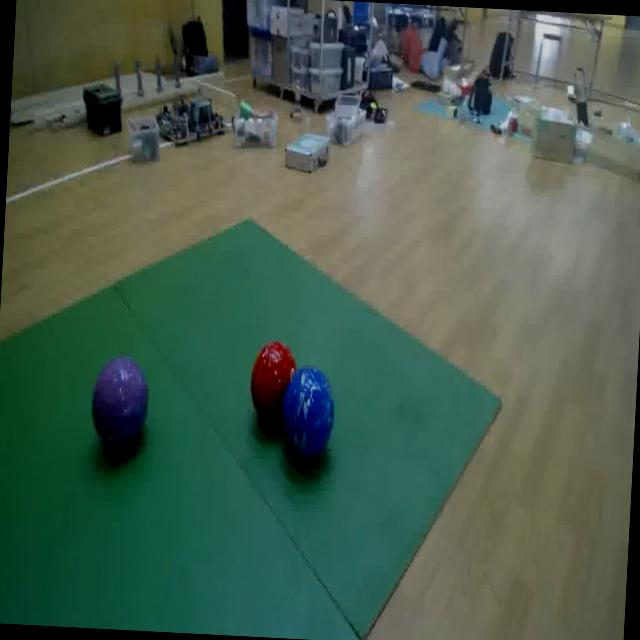blue_ball: (272, 370, 349, 484)
purple_ball: (81, 342, 155, 472)
red_ball: (246, 338, 302, 422)
